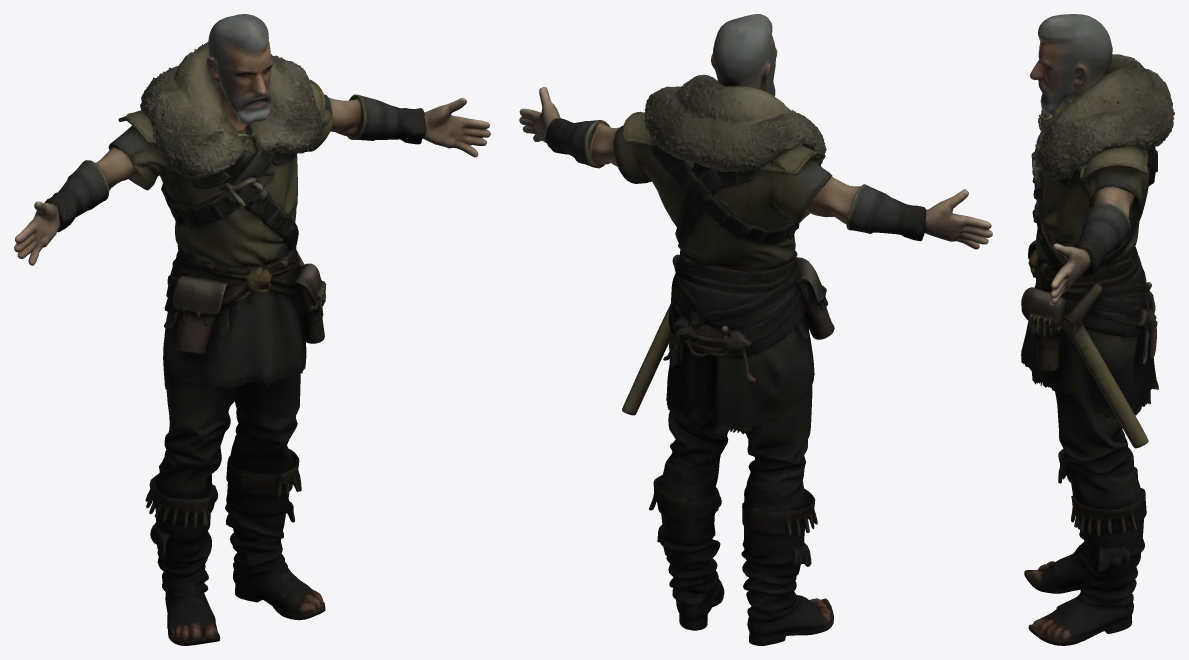
Rendered from player.glb.
The picture shows the model from 3 angles, left to right: view 1: azimuth 30°, elevation 25°; view 2: azimuth 150°, elevation 25°; view 3: azimuth 270°, elevation 25°; orthographic projection.
Visible parts, largest first — view 1: world; view 2: world; view 3: world.
Boxes of the visible parts, bbox=[...] form: world: bbox=[14, 14, 490, 645]; world: bbox=[519, 14, 992, 645]; world: bbox=[1021, 14, 1174, 645].
Size of the model in its own units: 0.8307 by 1 by 0.2351.
Materials: 1 (1 with a texture image).
